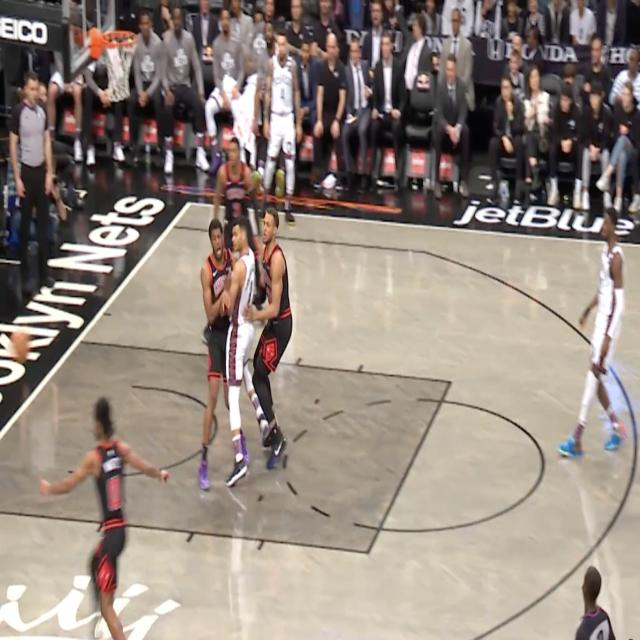Foul: (191, 207, 262, 501)
